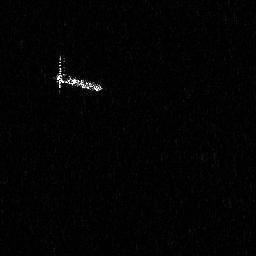ship: (52, 55, 104, 96)
